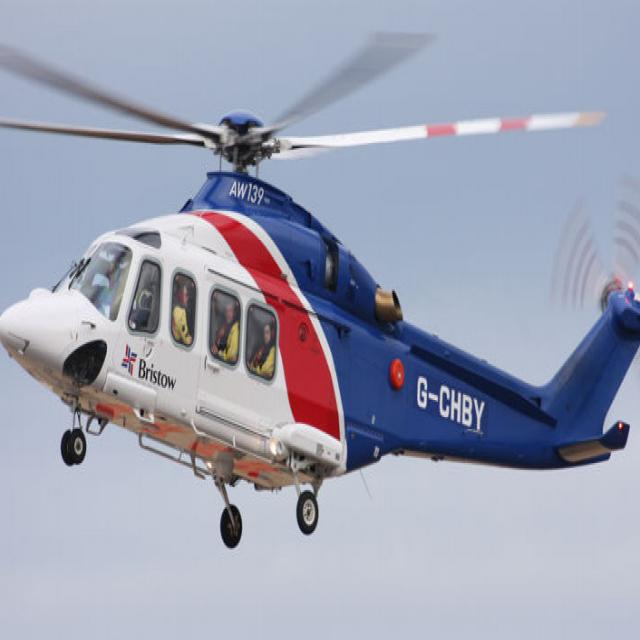helicopter: (1, 40, 640, 563)
